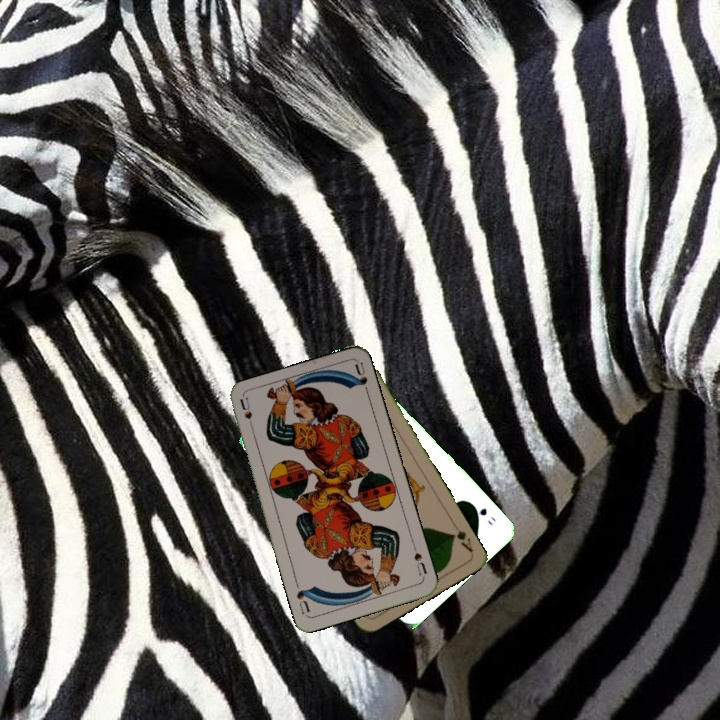GA: (447, 526, 476, 555)
GO: (468, 500, 498, 528)
SU: (409, 541, 430, 581), (236, 395, 257, 435)
